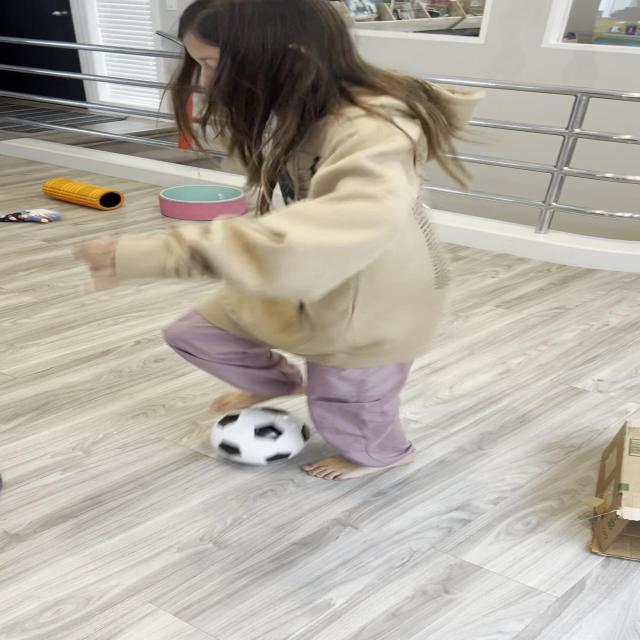Soccer Ball: (210, 406, 310, 465)
